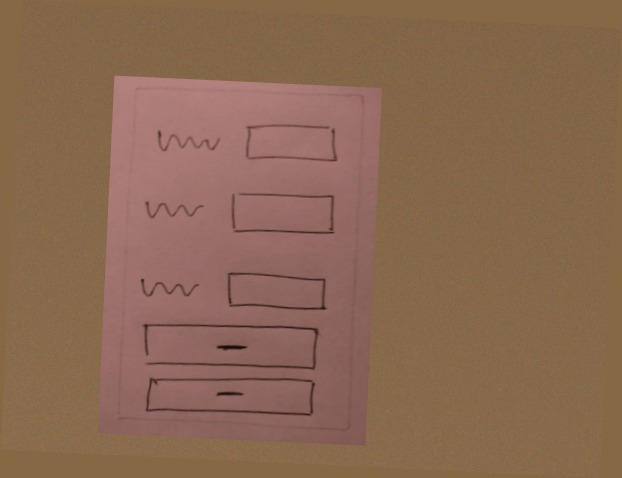button: (135, 316, 324, 376), (135, 369, 321, 425)
text: (150, 125, 225, 164), (134, 268, 204, 307), (139, 192, 208, 223)
text_input: (223, 181, 343, 245), (220, 265, 335, 320), (238, 118, 346, 169)
